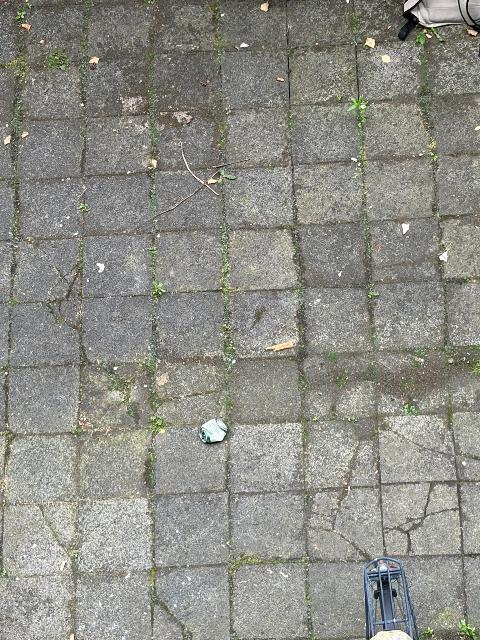can: (200, 418, 228, 443)
